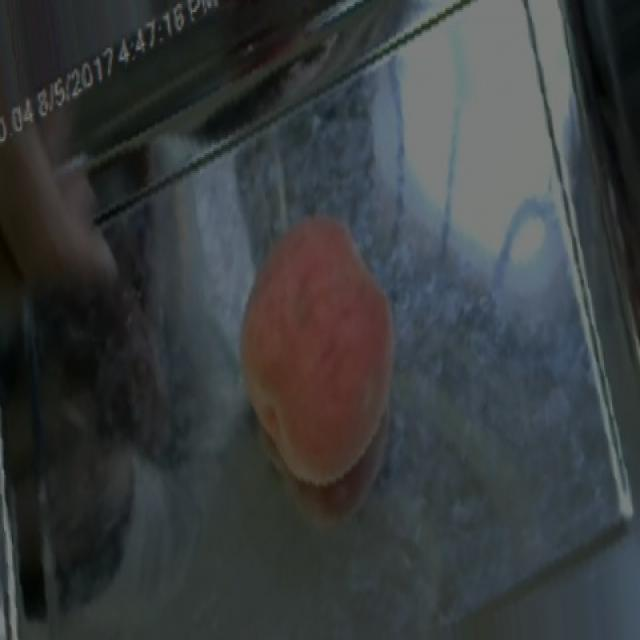Fruit: (224, 199, 420, 499)
